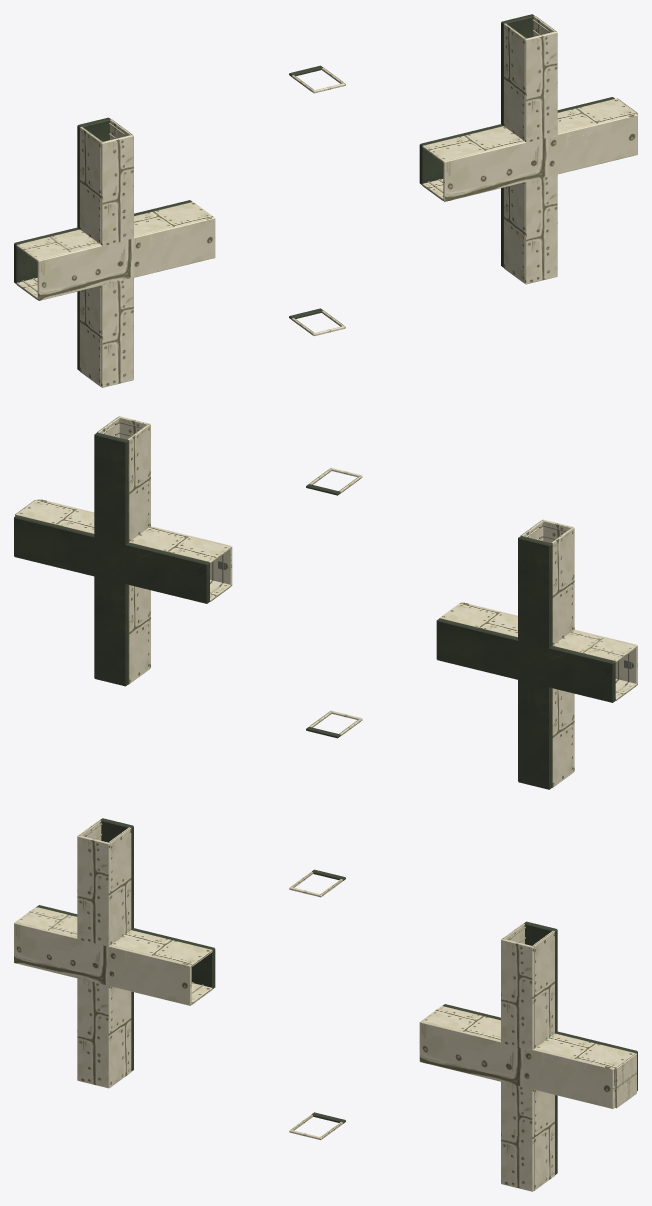
The model's file is ECHO7_26_Pasillos_Superiores.obj.
3 renders of one model, top to bottom at view 1: azimuth 30°, elevation 25°; view 2: azimuth 150°, elevation 25°; view 3: azimuth 330°, elevation 25°, orthographic.
Parts seen in each view (by area): view 1: ECHO7_26_Pasillos_Superiores__Techo_pasillo_02, ECHO7_26_Pasillos_Superiores__Techo_pasillo_01, ECHO7_26_Pasillos_Superiores__Techo_pasillo_06, ECHO7_26_Pasillos_Superiores__Techo_pasillo_05, ECHO7_26_Pasillos_Superiores__Techo_pasillo_04, ECHO7_26_Pasillos_Superiores__Techo_pasillo_03, ECHO7_26_Pasillos_Superiores__Pared_pasillo_12, ECHO7_26_Pasillos_Superiores__Pared_pasillo_16, ECHO7_26_Pasillos_Superiores__Pared_pasillo_13, ECHO7_26_Pasillos_Superiores__Pared_pasillo_09, ECHO7_26_Pasillos_Superiores__Pared_pasillo_07, ECHO7_26_Pasillos_Superiores__Pared_pasillo_04 (+6 smaller); view 2: ECHO7_26_Pasillos_Superiores__Suelo_pasillo_02, ECHO7_26_Pasillos_Superiores__Suelo_pasillo_01, ECHO7_26_Pasillos_Superiores__Suelo_pasillo_06, ECHO7_26_Pasillos_Superiores__Suelo_pasillo_04, ECHO7_26_Pasillos_Superiores__Suelo_pasillo_05, ECHO7_26_Pasillos_Superiores__Suelo_pasillo_03, ECHO7_26_Pasillos_Superiores__Pared_pasillo_12, ECHO7_26_Pasillos_Superiores__Pared_pasillo_16, ECHO7_26_Pasillos_Superiores__Pared_pasillo_13, ECHO7_26_Pasillos_Superiores__Pared_pasillo_09, ECHO7_26_Pasillos_Superiores__Pared_pasillo_07, ECHO7_26_Pasillos_Superiores__Pared_pasillo_04 (+6 smaller); view 3: ECHO7_26_Pasillos_Superiores__Techo_pasillo_02, ECHO7_26_Pasillos_Superiores__Techo_pasillo_01, ECHO7_26_Pasillos_Superiores__Techo_pasillo_04, ECHO7_26_Pasillos_Superiores__Techo_pasillo_03, ECHO7_26_Pasillos_Superiores__Techo_pasillo_06, ECHO7_26_Pasillos_Superiores__Techo_pasillo_05, ECHO7_26_Pasillos_Superiores__Pared_pasillo_11, ECHO7_26_Pasillos_Superiores__Pared_pasillo_15, ECHO7_26_Pasillos_Superiores__Pared_pasillo_10, ECHO7_26_Pasillos_Superiores__Pared_pasillo_14, ECHO7_26_Pasillos_Superiores__Pared_pasillo_04, ECHO7_26_Pasillos_Superiores__Pared_pasillo_08 (+6 smaller).
Boxes of the visible parts, x1,y1,x2,y2 form: ECHO7_26_Pasillos_Superiores__Techo_pasillo_02: (443,114,637,201); ECHO7_26_Pasillos_Superiores__Techo_pasillo_01: (37,217,215,300); ECHO7_26_Pasillos_Superiores__Techo_pasillo_06: (524,31,557,142); ECHO7_26_Pasillos_Superiores__Techo_pasillo_05: (524,173,557,284); ECHO7_26_Pasillos_Superiores__Techo_pasillo_04: (101,134,133,246); ECHO7_26_Pasillos_Superiores__Techo_pasillo_03: (101,276,133,387); ECHO7_26_Pasillos_Superiores__Pared_pasillo_12: (80,126,102,244); ECHO7_26_Pasillos_Superiores__Pared_pasillo_16: (504,23,526,140); ECHO7_26_Pasillos_Superiores__Pared_pasillo_13: (504,182,524,283); ECHO7_26_Pasillos_Superiores__Pared_pasillo_09: (80,286,100,386); ECHO7_26_Pasillos_Superiores__Pared_pasillo_07: (422,126,523,162); ECHO7_26_Pasillos_Superiores__Pared_pasillo_04: (134,202,213,236); ECHO7_26_Pasillos_Superiores__Suelo_pasillo_02: (14,515,209,603); ECHO7_26_Pasillos_Superiores__Suelo_pasillo_01: (436,618,615,702); ECHO7_26_Pasillos_Superiores__Suelo_pasillo_06: (94,432,128,544); ECHO7_26_Pasillos_Superiores__Suelo_pasillo_04: (518,536,552,648); ECHO7_26_Pasillos_Superiores__Suelo_pasillo_05: (94,576,128,686); ECHO7_26_Pasillos_Superiores__Suelo_pasillo_03: (518,679,552,789); ECHO7_26_Pasillos_Superiores__Pared_pasillo_12: (551,527,573,645); ECHO7_26_Pasillos_Superiores__Pared_pasillo_16: (127,424,149,541); ECHO7_26_Pasillos_Superiores__Pared_pasillo_13: (128,585,149,684); ECHO7_26_Pasillos_Superiores__Pared_pasillo_09: (552,688,573,787); ECHO7_26_Pasillos_Superiores__Pared_pasillo_07: (129,527,230,563); ECHO7_26_Pasillos_Superiores__Pared_pasillo_04: (439,603,517,637); ECHO7_26_Pasillos_Superiores__Techo_pasillo_02: (419,1021,614,1108); ECHO7_26_Pasillos_Superiores__Techo_pasillo_01: (14,922,191,1005); ECHO7_26_Pasillos_Superiores__Techo_pasillo_04: (77,835,110,947); ECHO7_26_Pasillos_Superiores__Techo_pasillo_03: (77,977,110,1088); ECHO7_26_Pasillos_Superiores__Techo_pasillo_06: (501,938,533,1051); ECHO7_26_Pasillos_Superiores__Techo_pasillo_05: (501,1081,533,1191); ECHO7_26_Pasillos_Superiores__Pared_pasillo_11: (108,827,131,944); ECHO7_26_Pasillos_Superiores__Pared_pasillo_15: (532,930,554,1048); ECHO7_26_Pasillos_Superiores__Pared_pasillo_10: (110,986,131,1087); ECHO7_26_Pasillos_Superiores__Pared_pasillo_14: (534,1090,554,1190); ECHO7_26_Pasillos_Superiores__Pared_pasillo_04: (111,930,212,966); ECHO7_26_Pasillos_Superiores__Pared_pasillo_08: (534,1033,634,1070).
Bounding box in the file's own units: 56.77 × 22.1 × 4.12.
Materials: 3 (3 with a texture image).
